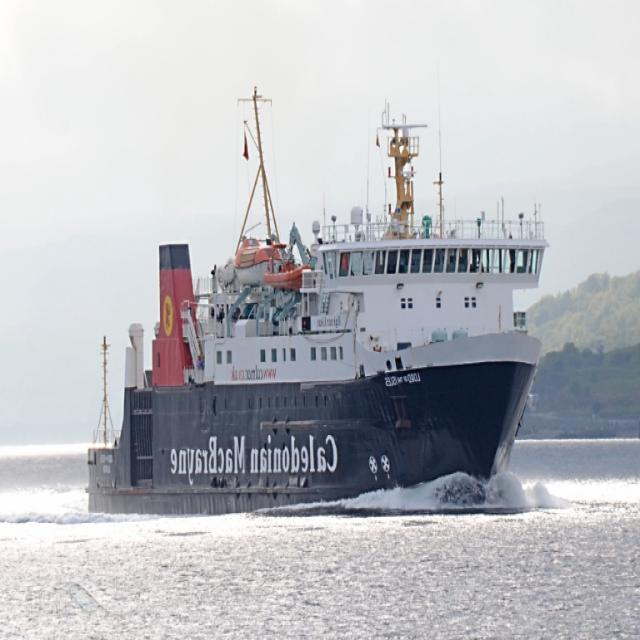PassengerShip: (103, 73, 562, 584)
